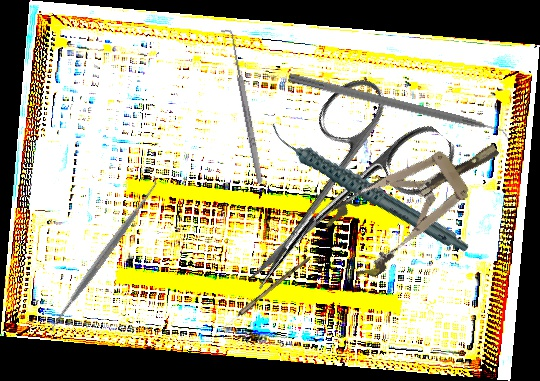Chopper: (284, 73, 517, 150)
Handpiece: (266, 88, 471, 289)
Hook Surgical: (220, 26, 266, 187)
Iris Scissors: (204, 63, 464, 332)
Spatula Surgical: (41, 173, 168, 336)
Speculum: (318, 115, 520, 286)
Surgical Spoon: (213, 254, 311, 338)
